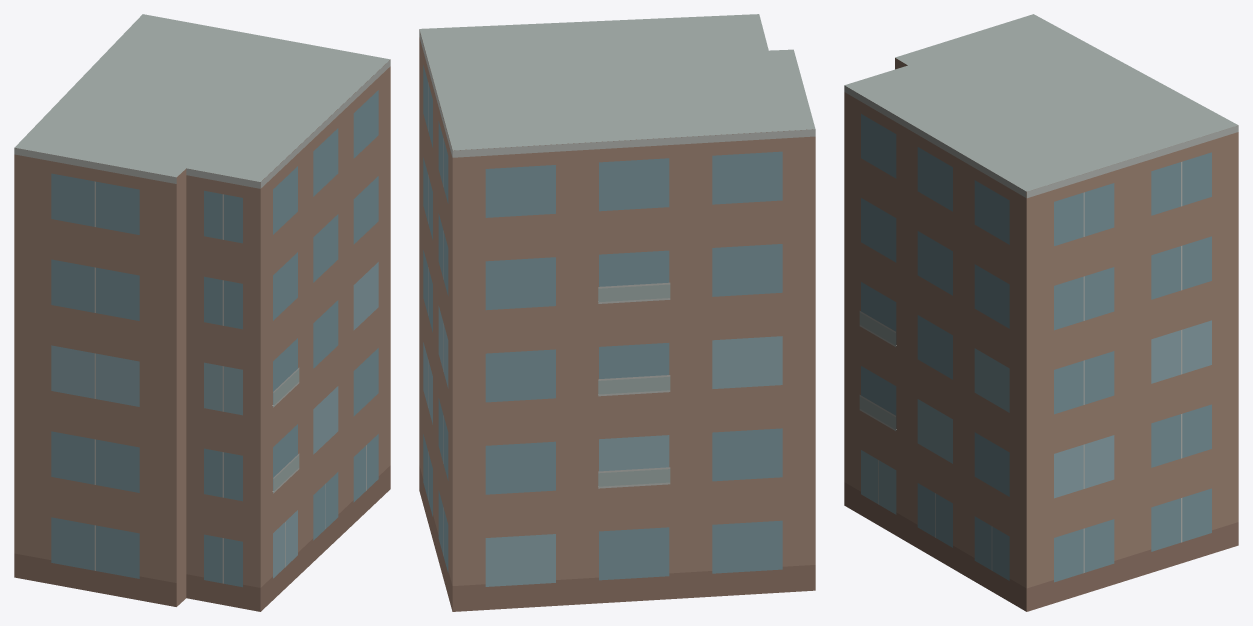
File: survey-upis-32729183.glb
3 views of the same model, side by side, from view 1: azimuth 30°, elevation 25°; view 2: azimuth 150°, elevation 25°; view 3: azimuth 270°, elevation 25° (orthographic). The views are drawn at different scales.
Parts seen in each view (by area): view 1: survey-upis-32729183.tmp; view 2: survey-upis-32729183.tmp; view 3: survey-upis-32729183.tmp.
Part boxes in pixels (x1=…): survey-upis-32729183.tmp: x1=14, y1=14, x2=390, y2=611; survey-upis-32729183.tmp: x1=419, y1=14, x2=815, y2=611; survey-upis-32729183.tmp: x1=844, y1=14, x2=1238, y2=611.
Size of the model in its own units: 14.03 by 15.46 by 13.16.
